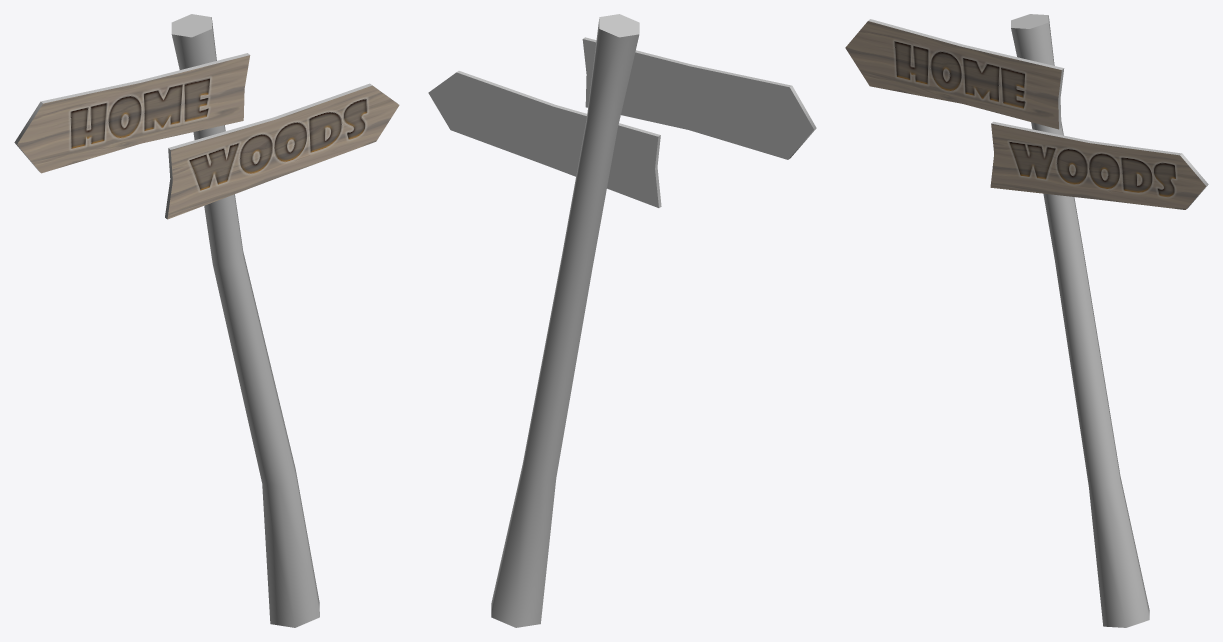
Rendered from Cartel Flechas.FBX.
3 renders of one model, left to right at view 1: azimuth 30°, elevation 25°; view 2: azimuth 150°, elevation 25°; view 3: azimuth 330°, elevation 25°, orthographic. The views are drawn at different scales.
Parts seen in each view (by area): view 1: Cartel Flechas; view 2: Cartel Flechas; view 3: Cartel Flechas.
Boxes of the visible parts, <box> form: Cartel Flechas: <box>14,14,399,627</box>; Cartel Flechas: <box>428,14,816,627</box>; Cartel Flechas: <box>845,14,1208,627</box>.
Bounding box in the file's own units: 239 × 369 × 27.01.
